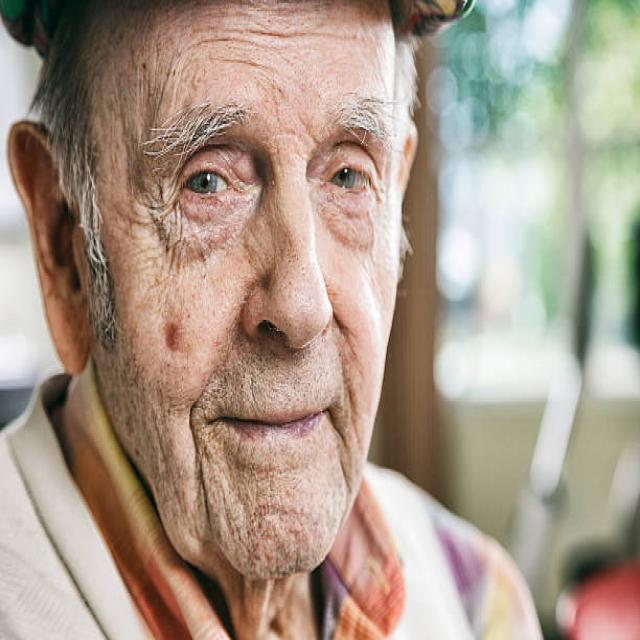Wrinkles: (317, 213, 370, 251), (254, 29, 356, 41), (156, 53, 173, 106), (188, 39, 269, 49), (221, 60, 273, 74), (202, 11, 255, 16)
